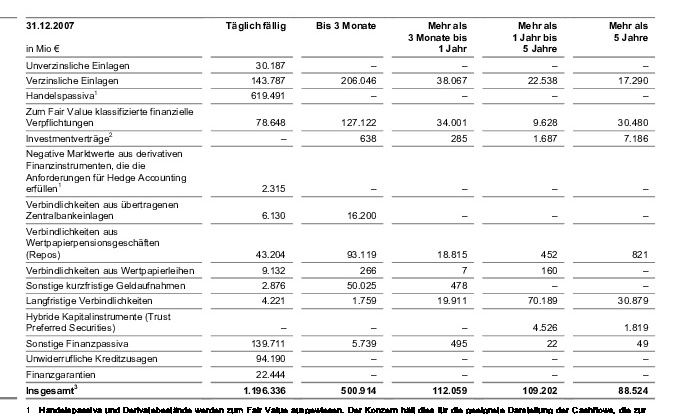table: (0, 0, 680, 414)
